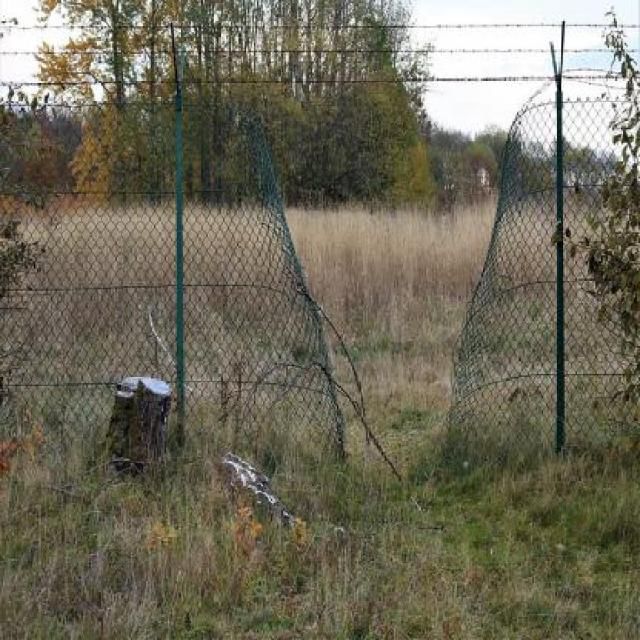fence line: (274, 115, 514, 484)
